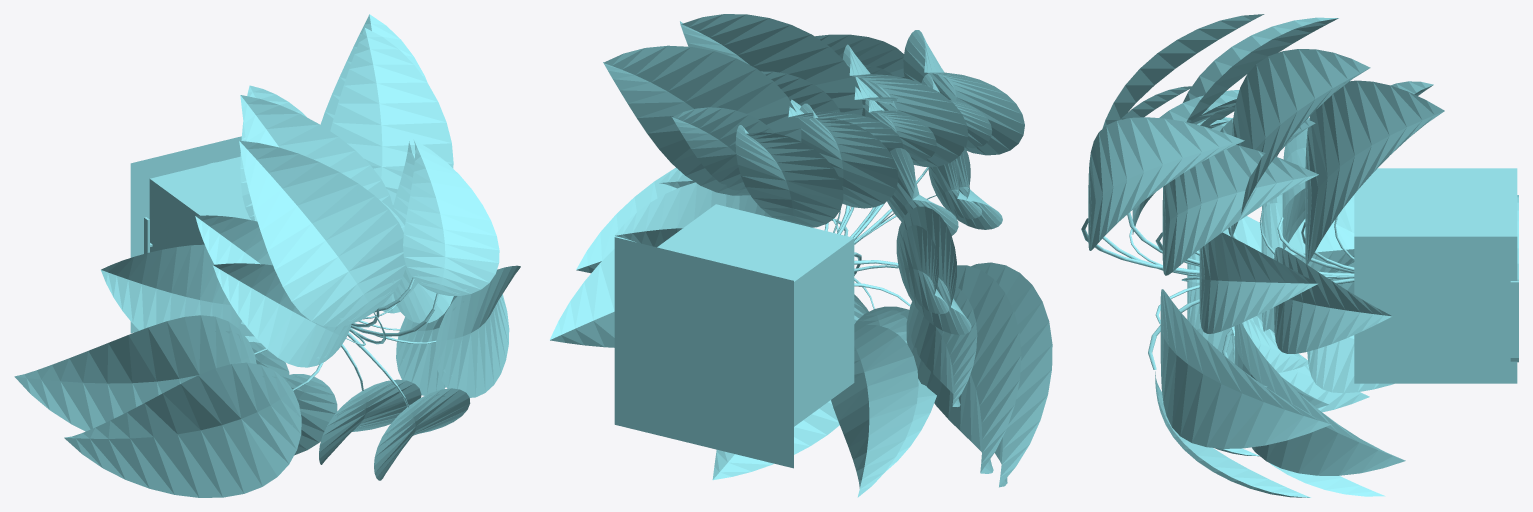
Rendered from arena.obj.
3 views of the same model, side by side, from view 1: azimuth 30°, elevation 25°; view 2: azimuth 150°, elevation 25°; view 3: azimuth 270°, elevation 25° (orthographic). The views are drawn at different scales.
Parts seen in each view (by area): view 1: arena_uv_8, arena_uv_6, arena_uv_11, arena_uv_22, arena_uv_12; view 2: arena_uv_6, arena_uv_8, arena_uv_22, arena_uv_11, arena_uv_12, arena_uv_1; view 3: arena_uv_8, arena_uv_11, arena_uv_6, arena_uv_12, arena_uv_1.
Boxes of the visible parts, x1=… form: arena_uv_8: x1=14, y1=14, x2=520, y2=497; arena_uv_6: x1=195, y1=85, x2=472, y2=443; arena_uv_11: x1=150, y1=157, x2=260, y2=343; arena_uv_22: x1=130, y1=136, x2=241, y2=333; arena_uv_12: x1=149, y1=156, x2=245, y2=247; arena_uv_6: x1=614, y1=65, x2=992, y2=497; arena_uv_8: x1=550, y1=14, x2=1052, y2=487; arena_uv_22: x1=614, y1=237, x2=793, y2=468; arena_uv_11: x1=657, y1=204, x2=854, y2=426; arena_uv_12: x1=676, y1=204, x2=853, y2=393; arena_uv_1: x1=629, y1=304, x2=778, y2=420; arena_uv_8: x1=1088, y1=14, x2=1444, y2=497; arena_uv_11: x1=1354, y1=168, x2=1516, y2=383; arena_uv_6: x1=1081, y1=81, x2=1518, y2=456; arena_uv_12: x1=1355, y1=168, x2=1517, y2=383; arena_uv_1: x1=1510, y1=281, x2=1518, y2=362.
Bounding box in the file's own units: 6.79 × 6.16 × 5.4.
